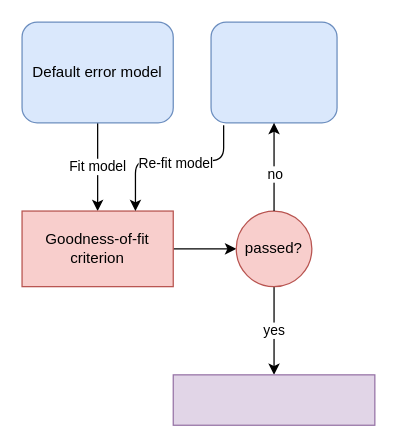
Image size: 397x447. Some labels were removed from this diagram. The shapes that lost their labels are listed below. From the top down, each one's centre as x and y in pixels, then its label:
At [273,72]: "Alternative error model".
At [273,399]: "VPC & QPC".
